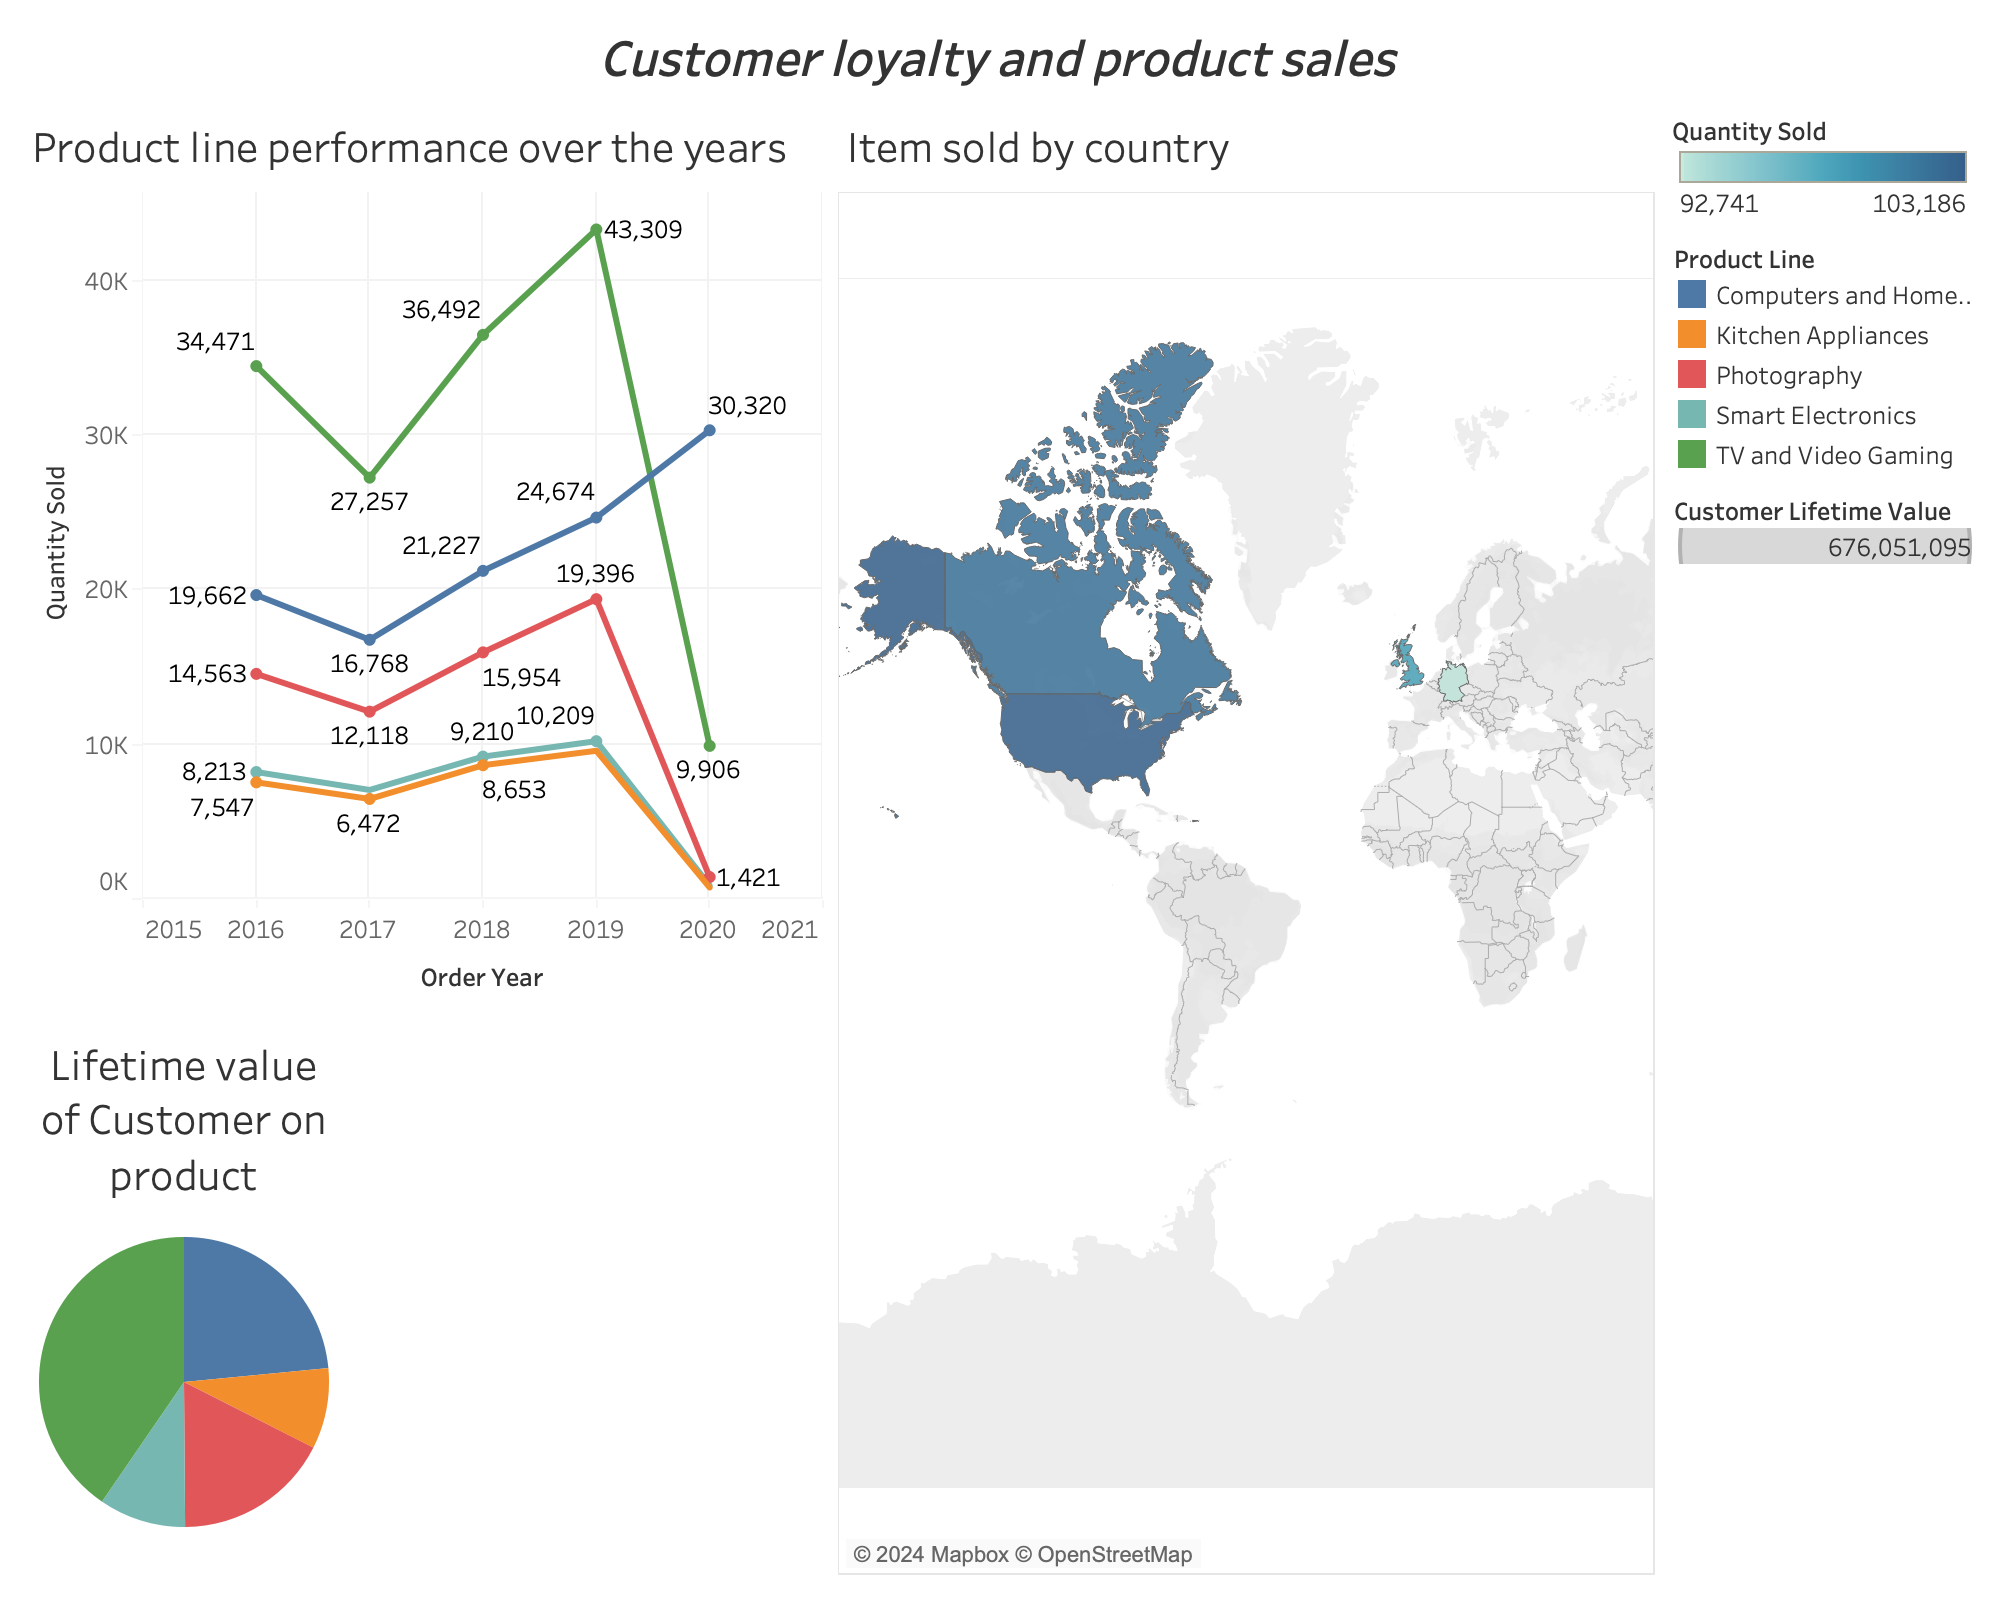

What the dashboard file says about the page in this screenshot:
{"tool":"tableau","page":{"name":"Customers Loyalty","canvas":[1000,800],"ordinal":0},"visuals":[{"type":"worksheet","title":"performance by year","mark":"Automatic","rows":["Quantity Sold"],"cols":["Order Year"],"box":[8,8,407,484]},{"type":"worksheet","title":"items pe country","mark":"Automatic","box":[415,8,417,784]},{"type":"legend","title":"items pe country","param":"[federated.1e4z2dv06pm1cn0zucp4o13gqqn9].[sum:Quantity Sold:qk]","box":[832,8,160,65]},{"type":"legend","title":"Customer lifetime on product","param":"[federated.1e4z2dv06pm1cn0zucp4o13gqqn9].[none:Product Line:nk]","box":[832,73,160,126]},{"type":"legend","title":"Customer lifetime on product","param":"[federated.1e4z2dv06pm1cn0zucp4o13gqqn9].[sum:Customer Lifetime Value:qk]","box":[832,199,160,46]},{"type":"worksheet","title":"Customer lifetime on product","mark":"Pie","box":[8,492,407,300]}]}

Visuals, with their boxes in screenshot pixels (x1, y1, x2, y2), scaled from the page's 1000x800 canvas onto the 2000x1600 screenshot:
"performance by year" worksheet: <region>16, 16, 830, 984</region>
"items pe country" worksheet: <region>830, 16, 1664, 1584</region>
"items pe country" legend: <region>1664, 16, 1984, 146</region>
"Customer lifetime on product" legend: <region>1664, 146, 1984, 398</region>
"Customer lifetime on product" legend: <region>1664, 398, 1984, 490</region>
"Customer lifetime on product" worksheet (Pie marks): <region>16, 984, 830, 1584</region>
